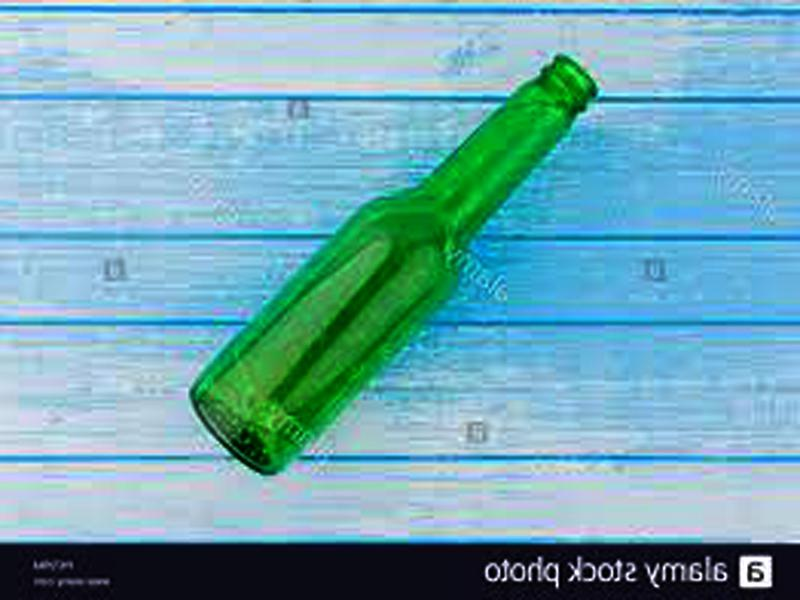Beer: (185, 53, 601, 481)
